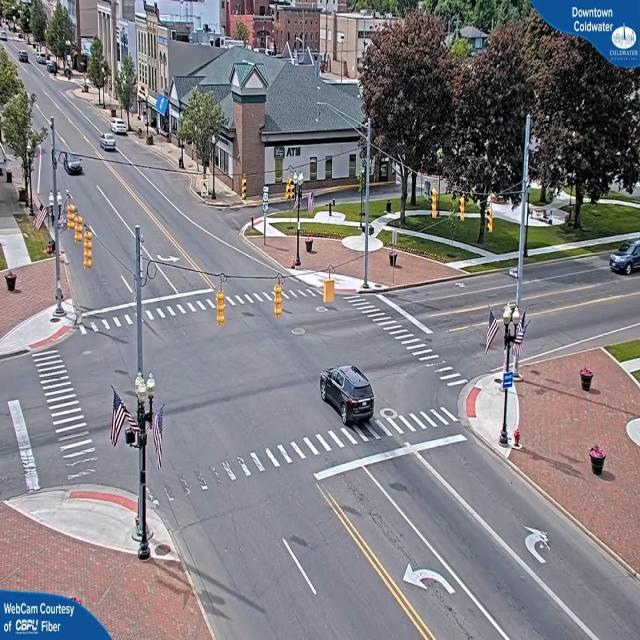car: (319, 368, 377, 424), (610, 243, 640, 276), (63, 155, 83, 176), (100, 133, 117, 152), (112, 120, 128, 137), (19, 52, 29, 64)
